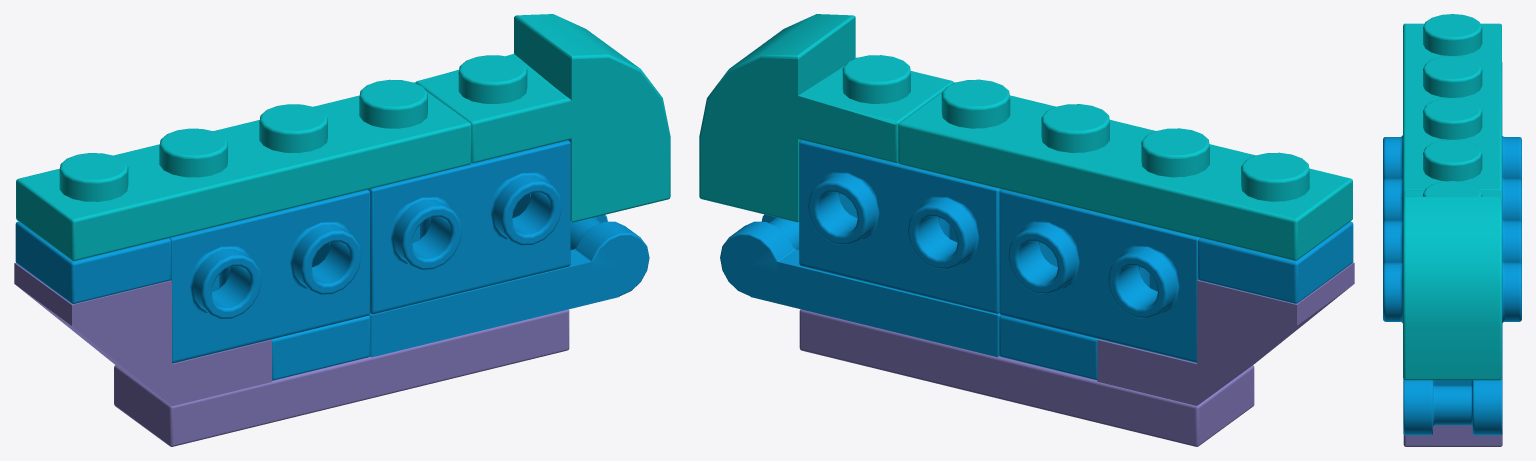
The model's file is Passo 51.fbx.
3 views of the same model, side by side, from view 1: azimuth 30°, elevation 25°; view 2: azimuth 150°, elevation 25°; view 3: azimuth 270°, elevation 25° (orthographic). The views are drawn at different scales.
Parts seen in each view (by area): view 1: Plate_1x4.034, Brick_cuved_1x2x1.013, Brick_special_2x2.001, Brick_special_2x2__1_.001, Plate_1x4_1.001, Plate_special_2x1.003, Slope_2x1.002, Plate_1x1.002, Plate_1x1_1.001; view 2: Plate_1x4.034, Brick_cuved_1x2x1.013, Brick_special_2x2.001, Brick_special_2x2__1_.001, Plate_1x4_1.001, Plate_special_2x1.003, Slope_2x1.002, Plate_1x1.002, Plate_1x1_1.001; view 3: Brick_cuved_1x2x1.013, Plate_1x4.034, Plate_special_2x1.003, Brick_special_2x2.001, Brick_special_2x2__1_.001, Plate_1x4_1.001.
Part boxes in pixels (x1=…): Plate_1x4.034: x1=16, y1=79, x2=471, y2=260; Brick_cuved_1x2x1.013: x1=415, y1=14, x2=670, y2=222; Brick_special_2x2.001: x1=368, y1=140, x2=570, y2=314; Brick_special_2x2__1_.001: x1=169, y1=189, x2=370, y2=363; Plate_1x4_1.001: x1=114, y1=309, x2=569, y2=446; Plate_special_2x1.003: x1=369, y1=215, x2=649, y2=357; Slope_2x1.002: x1=14, y1=262, x2=271, y2=406; Plate_1x1.002: x1=15, y1=221, x2=170, y2=303; Plate_1x1_1.001: x1=271, y1=315, x2=370, y2=380; Plate_1x4.034: x1=898, y1=79, x2=1352, y2=260; Brick_cuved_1x2x1.013: x1=699, y1=14, x2=954, y2=222; Brick_special_2x2.001: x1=799, y1=140, x2=1001, y2=313; Brick_special_2x2__1_.001: x1=999, y1=189, x2=1200, y2=362; Plate_1x4_1.001: x1=799, y1=309, x2=1254, y2=446; Plate_special_2x1.003: x1=720, y1=214, x2=1000, y2=357; Slope_2x1.002: x1=1097, y1=262, x2=1354, y2=405; Plate_1x1.002: x1=1198, y1=221, x2=1353, y2=303; Plate_1x1_1.001: x1=999, y1=315, x2=1097, y2=380; Brick_cuved_1x2x1.013: x1=1403, y1=181, x2=1501, y2=380; Plate_1x4.034: x1=1403, y1=14, x2=1501, y2=192; Plate_special_2x1.003: x1=1403, y1=324, x2=1502, y2=435; Brick_special_2x2.001: x1=1383, y1=219, x2=1521, y2=323; Brick_special_2x2__1_.001: x1=1383, y1=135, x2=1521, y2=222; Plate_1x4_1.001: x1=1403, y1=323, x2=1502, y2=446.
Bounding box in the file's own units: 0.4798 × 0.2246 × 0.112.
